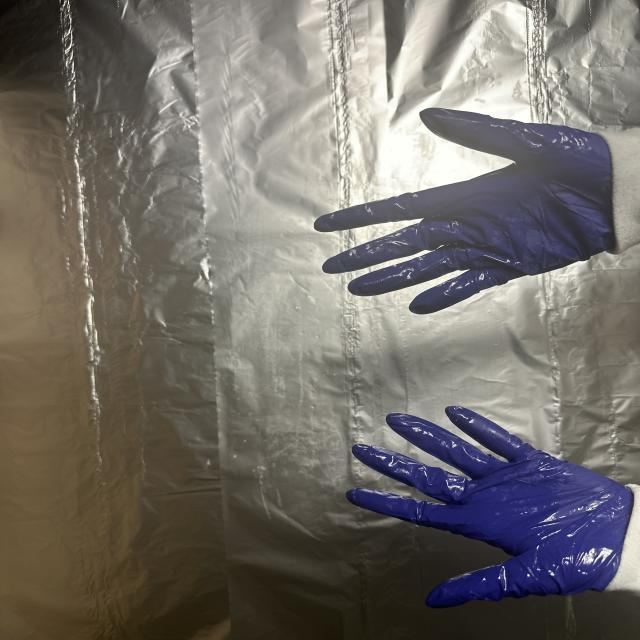gloves_contaminated: (315, 109, 614, 314), (348, 406, 633, 606)
